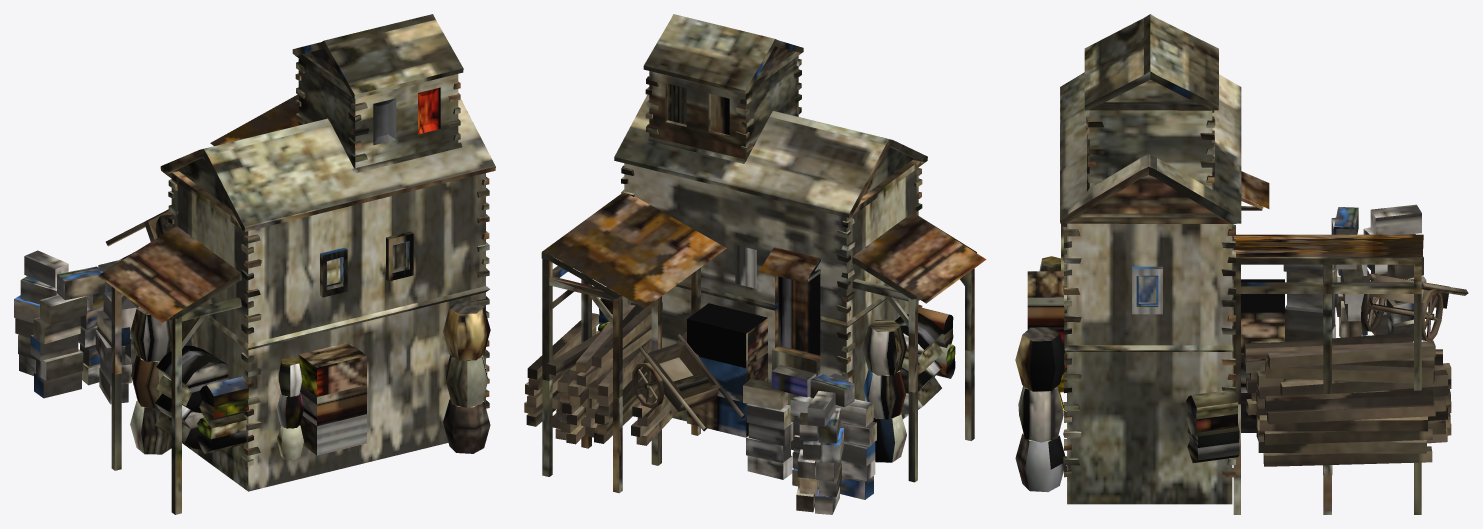
Rendered from storehouse.glb.
The picture shows the model from 3 angles, left to right: view 1: azimuth 30°, elevation 25°; view 2: azimuth 150°, elevation 25°; view 3: azimuth 270°, elevation 25°; orthographic projection. The views are drawn at different scales.
Visible parts, largest first — view 1: storehouse; view 2: storehouse; view 3: storehouse.
Boxes of the visible parts, box(x1,y1,x2,y2) form: storehouse: box(14, 14, 495, 514); storehouse: box(524, 14, 986, 514); storehouse: box(1015, 14, 1468, 514).
Size of the model in its own units: 3.31 by 3.63 by 3.4.
Materials: 5 (5 with a texture image).
